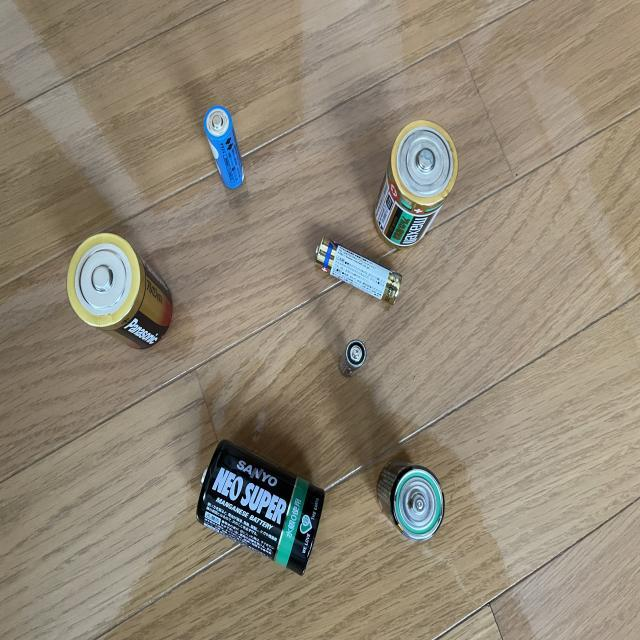hazardous waste: (192, 436, 328, 578), (64, 229, 178, 356), (372, 115, 460, 254), (310, 236, 404, 314), (372, 453, 446, 548), (201, 101, 250, 195), (335, 336, 373, 384)
